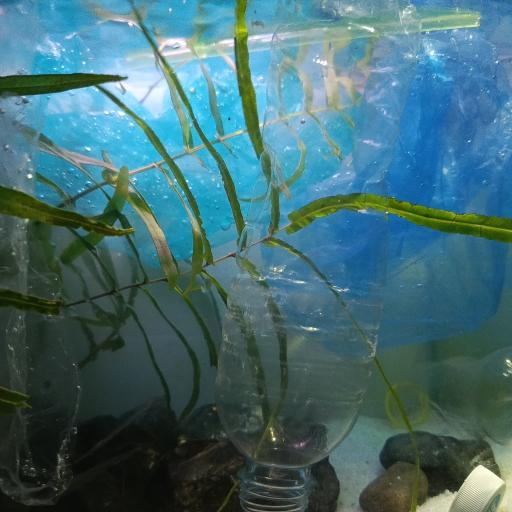plastic_bag: (256, 0, 512, 352), (26, 0, 349, 263), (3, 0, 168, 502)
plastic_bottle: (217, 0, 379, 512), (384, 352, 512, 449)
plastic_straw: (160, 11, 480, 60)
